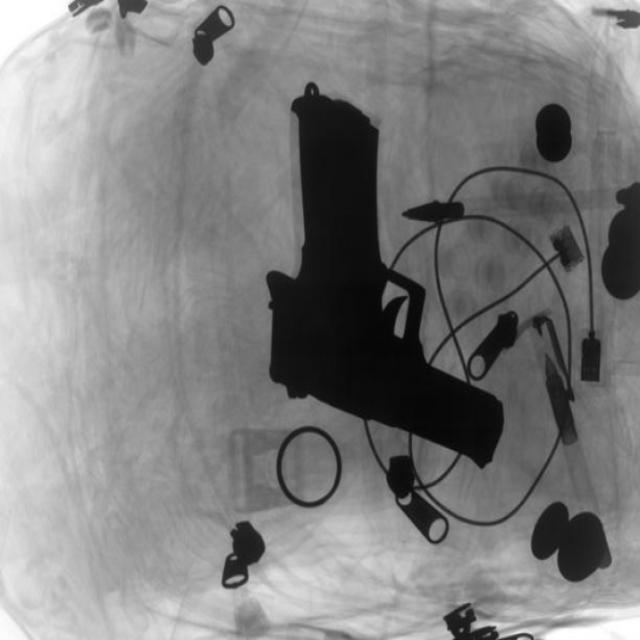GUN: (256, 91, 486, 506)
